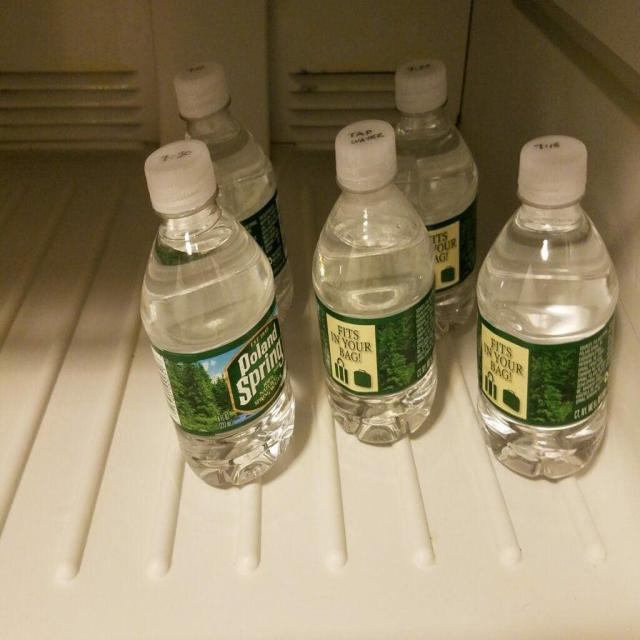bottle: (128, 127, 301, 498), (470, 124, 627, 491), (303, 105, 448, 456), (156, 51, 302, 342), (361, 45, 488, 344)
